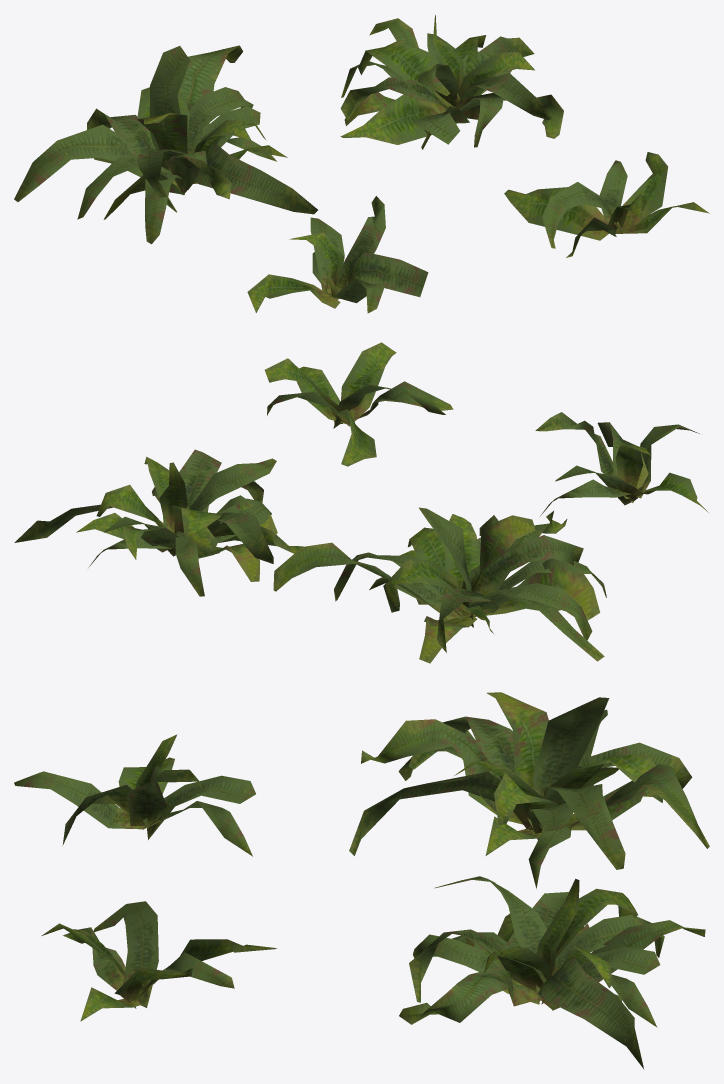
The model's file is fern.glb.
The picture shows the model from 3 angles, top to bottom: view 1: azimuth 30°, elevation 25°; view 2: azimuth 150°, elevation 25°; view 3: azimuth 270°, elevation 25°; orthographic projection. The views are drawn at different scales.
Bounding box in the file's own units: 1.97 × 0.4277 × 1.72.
Materials: 1 (1 with a texture image).
